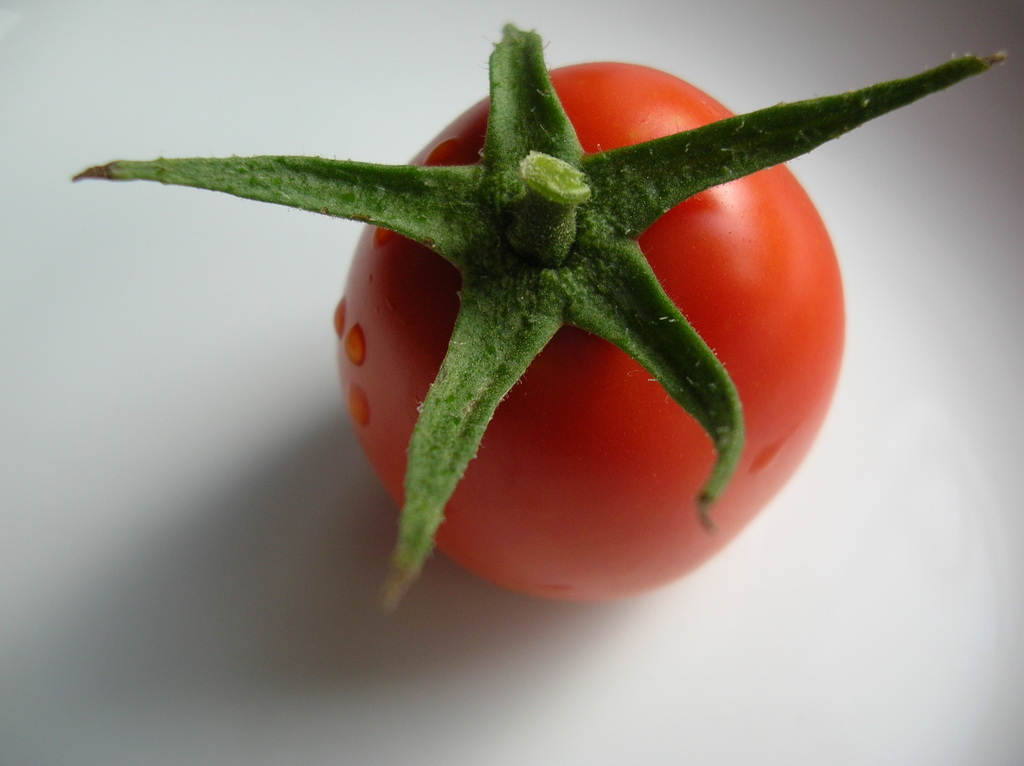Tomato: (64, 21, 1008, 627)
